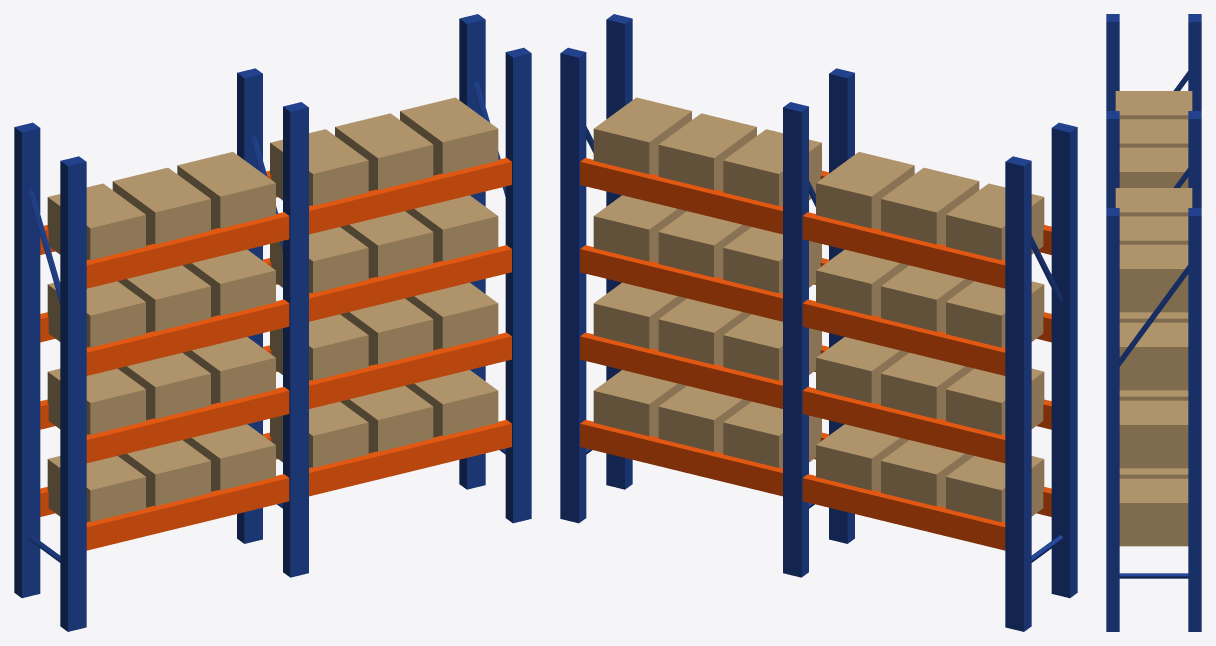
File: police.store.property_store.glb
The picture shows the model from 3 angles, left to right: view 1: azimuth 30°, elevation 25°; view 2: azimuth 150°, elevation 25°; view 3: azimuth 270°, elevation 25°; orthographic projection. The views are drawn at different scales.
Parts seen in each view (by area): view 1: main__plywood, main__plastic_blue, main__hivis_orange; view 2: main__plywood, main__plastic_blue, main__hivis_orange; view 3: main__plywood, main__plastic_blue.
Boxes of the visible parts, x1,y1,x2,y2 form: main__plywood: (47,97,498,522); main__plastic_blue: (14,14,531,631); main__hivis_orange: (40,158,511,550); main__plywood: (593,97,1044,522); main__plastic_blue: (560,14,1077,631); main__hivis_orange: (580,158,1051,550); main__plywood: (1115,91,1192,546); main__plastic_blue: (1106,14,1201,631).
Size of the model in its own units: 2.5 by 2.4 by 0.5.
